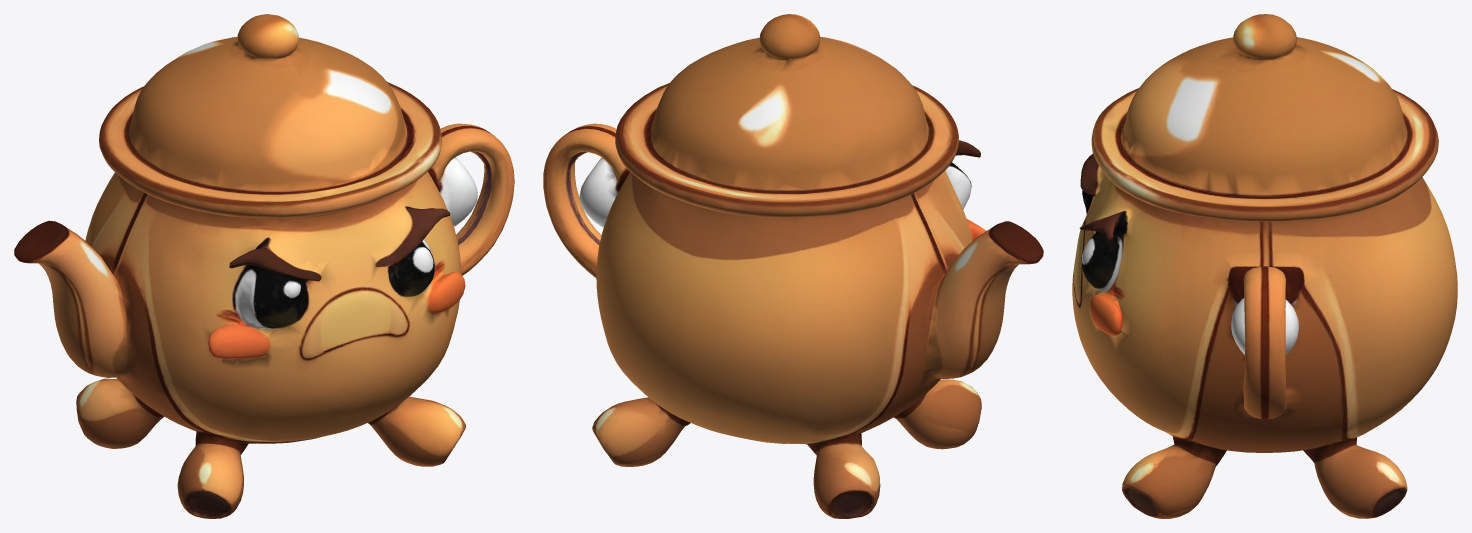
Rendered from caydanlik.glb.
The picture shows the model from 3 angles, left to right: view 1: azimuth 30°, elevation 25°; view 2: azimuth 150°, elevation 25°; view 3: azimuth 270°, elevation 25°; orthographic projection.
Parts seen in each view (by area): view 1: world_1; view 2: world_1; view 3: world_1.
Boxes of the visible parts, box(x1,y1,x2,y2) form: world_1: box(14, 14, 514, 518); world_1: box(543, 14, 1043, 518); world_1: box(1072, 14, 1457, 518).
Bounding box in the file's own units: 1 × 0.8499 × 0.6666.
Materials: 1 (1 with a texture image).
